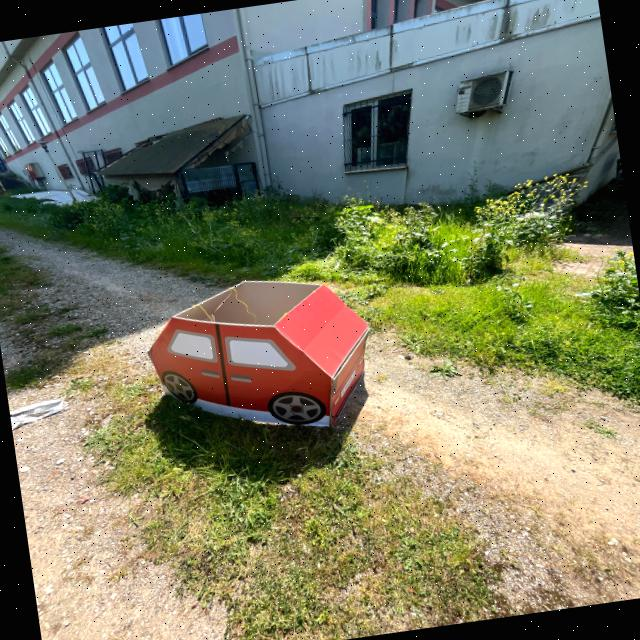red_car: (131, 253, 393, 466)
